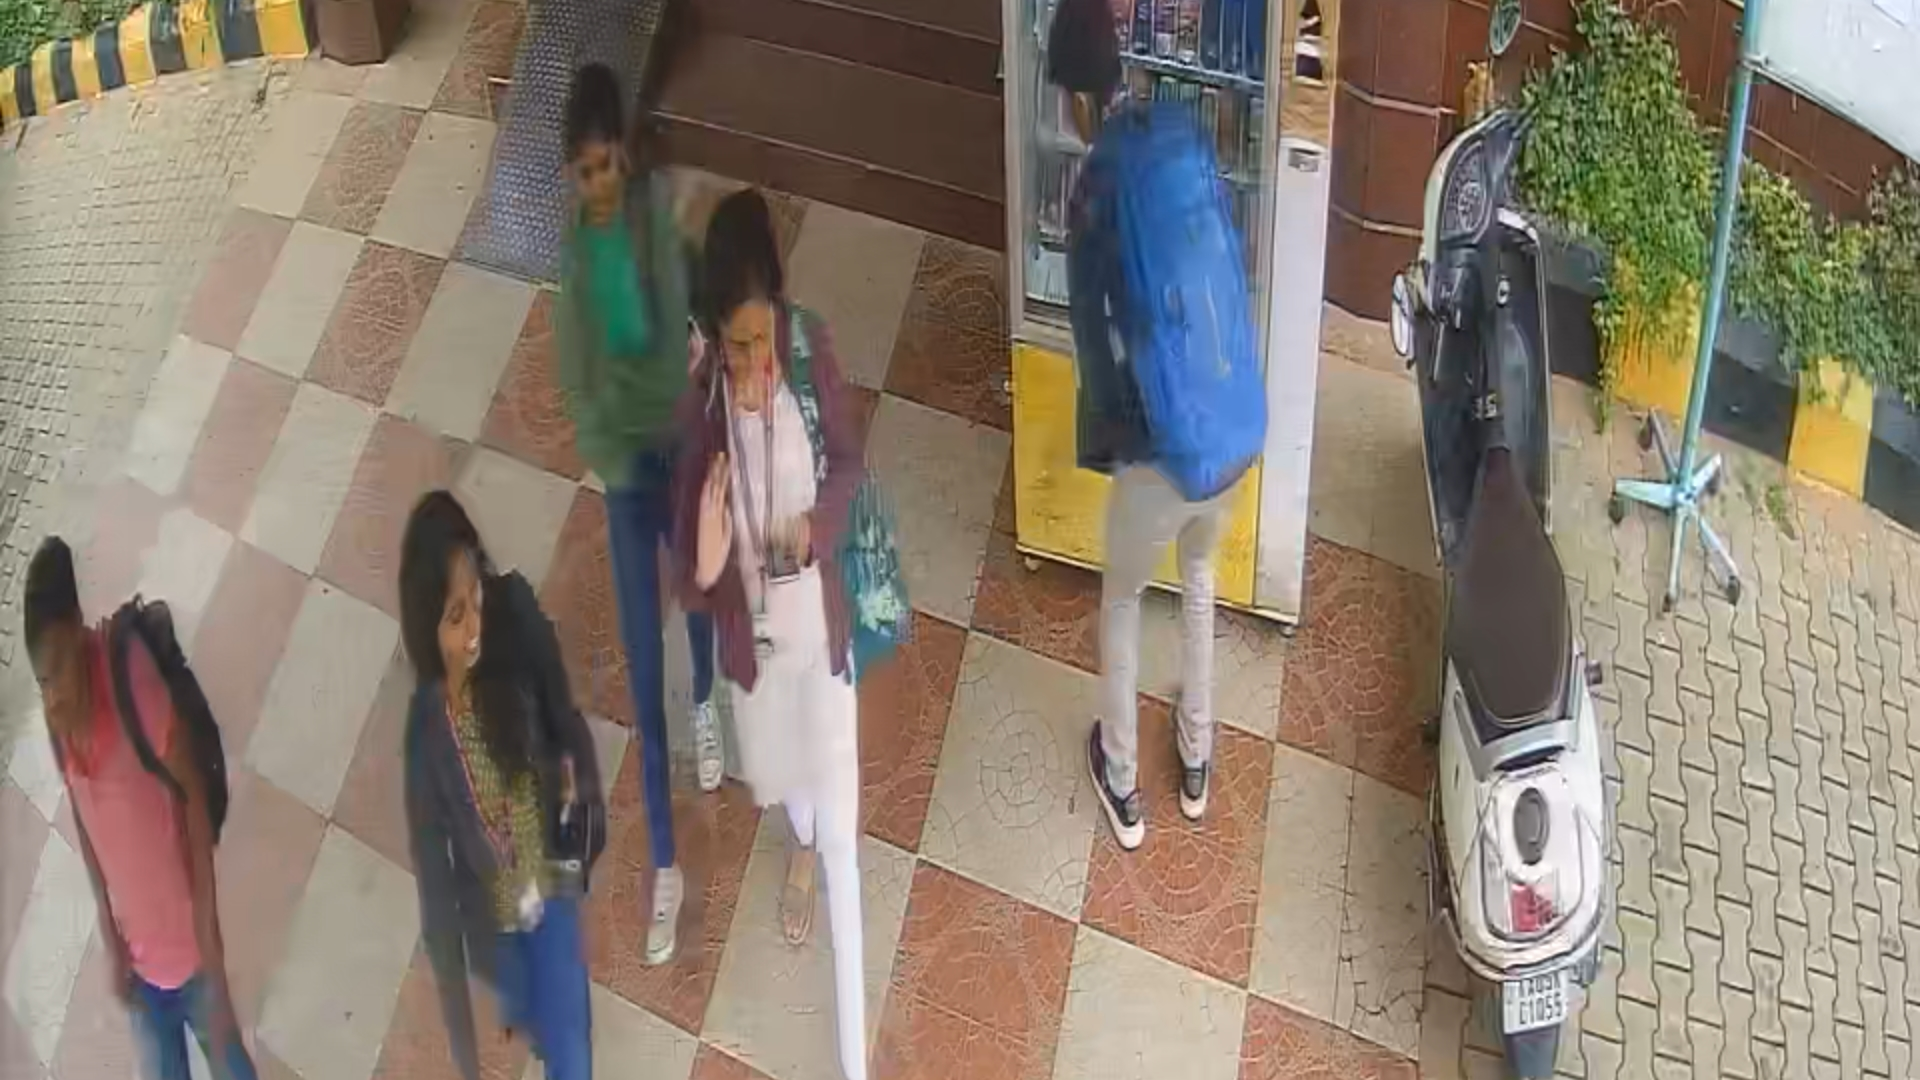intruder: (543, 44, 796, 952)
not intruder: (674, 171, 891, 1080), (364, 471, 671, 1080)
